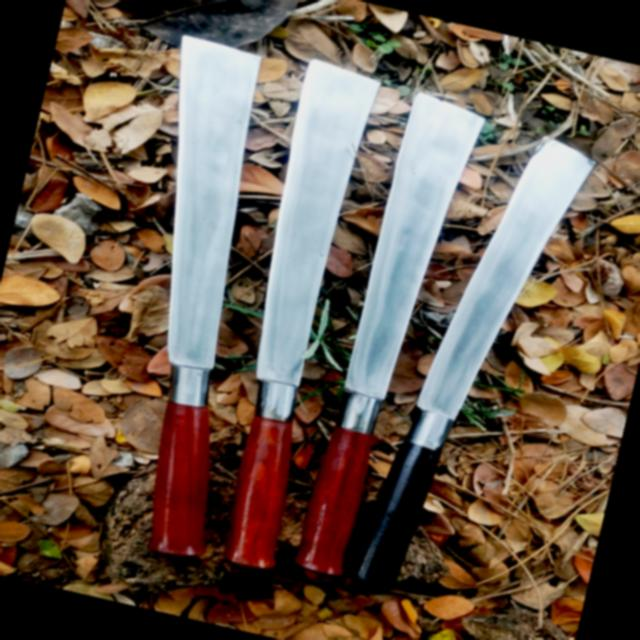eto: (340, 130, 613, 590), (298, 78, 502, 587), (221, 54, 389, 571), (146, 23, 267, 565)
